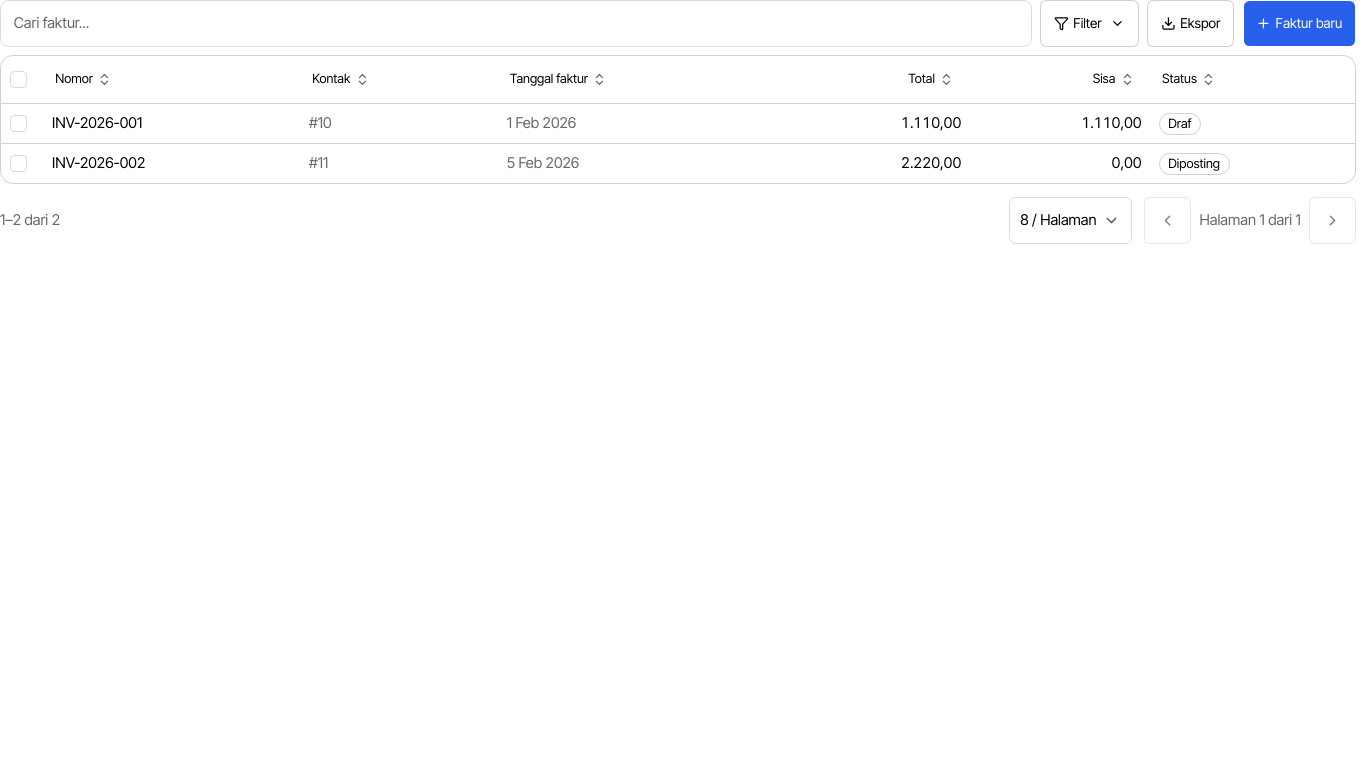
InvoicesSection › opens the create dialog from the add button
expect the link "INV-2026-001" is shown: met, box [52,114,142,132]
Click the button "Faktur baru": (1299, 23) [1243,0,1356,47]
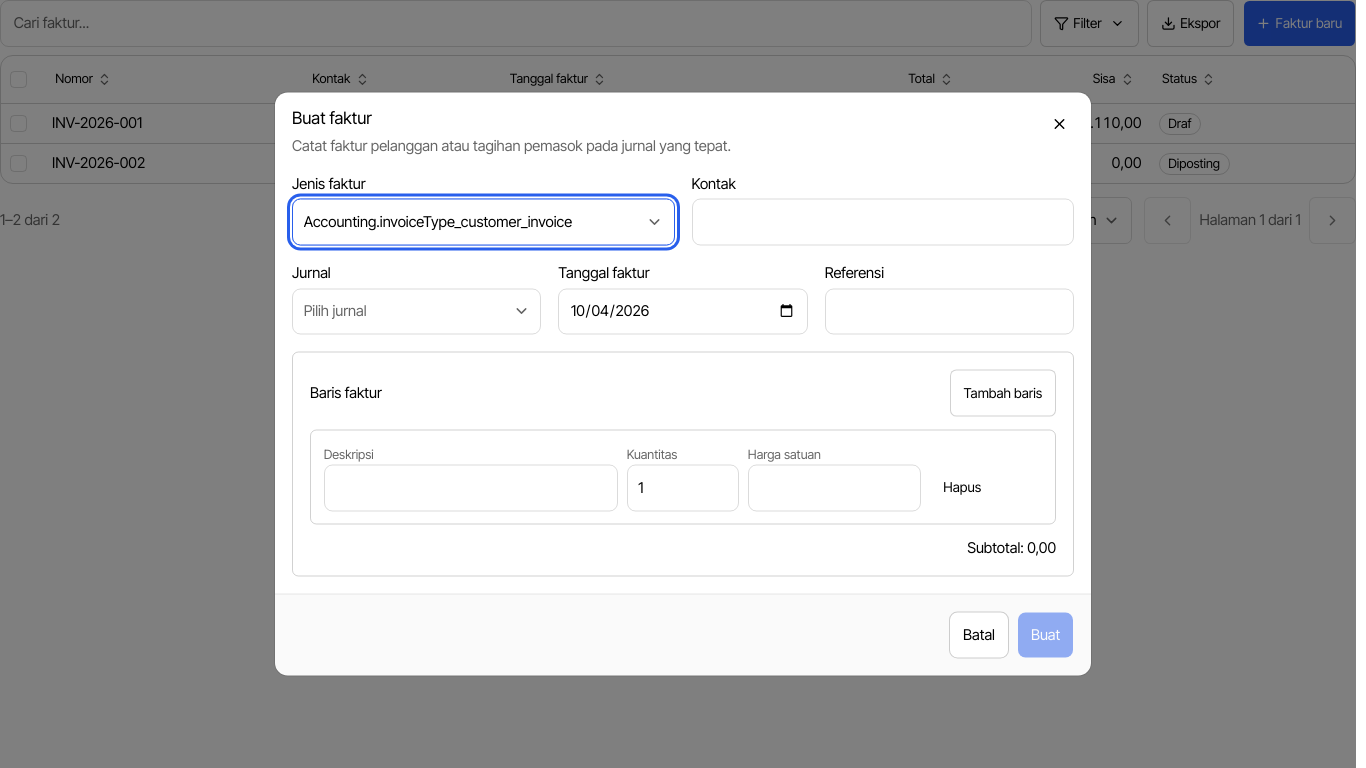
expect the dialog is shown: met, box [275,92,1091,676]
expect the heading "Buat faktur" is shown: met, box [292,108,372,128]
